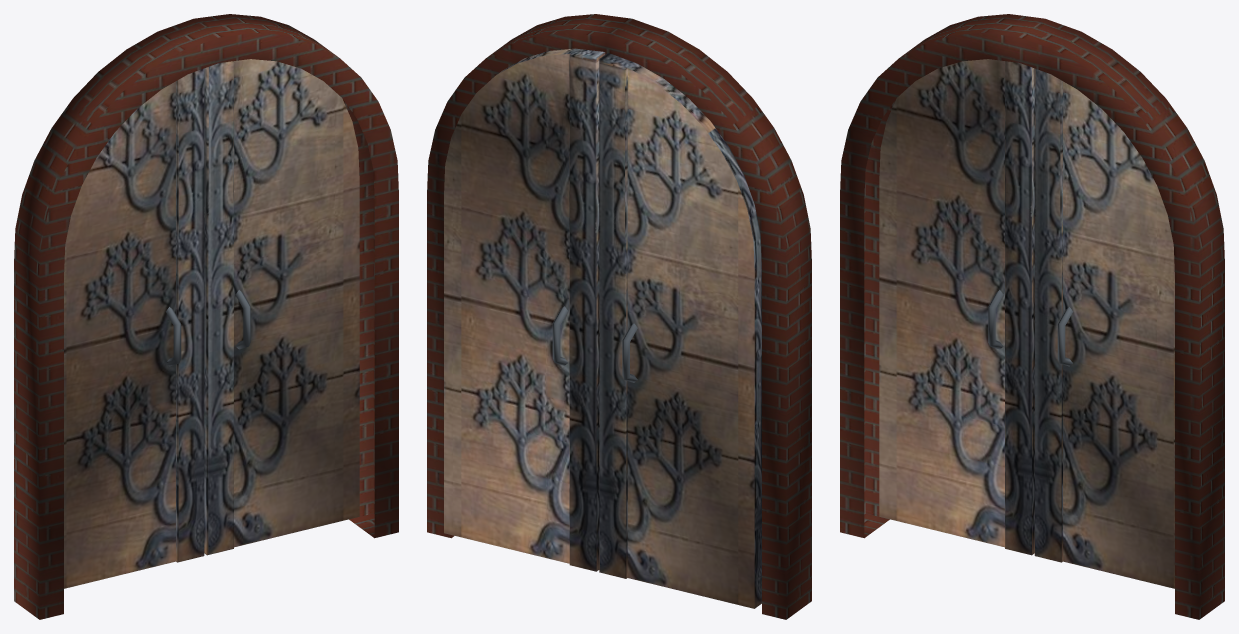
File: dungeon-door.obj
3 renders of one model, left to right at view 1: azimuth 30°, elevation 25°; view 2: azimuth 150°, elevation 25°; view 3: azimuth 330°, elevation 25°, orthographic.
Visible parts, largest first — view 1: l_1, r_1, br; view 2: r_1, l_1, br; view 3: r_1, l_1, br.
Part boxes in pixels (box(x1,y1,x2,y2)): l_1: box(204, 59, 359, 555); r_1: box(64, 68, 204, 588); br: box(14, 14, 398, 619); r_1: box(599, 53, 761, 608); l_1: box(444, 48, 605, 571); br: box(427, 14, 811, 619); r_1: box(879, 59, 1034, 555); l_1: box(1034, 68, 1174, 588); br: box(840, 14, 1224, 619).
Size of the model in its own units: 4.72 by 6.77 by 0.9748.
Materials: 3 (3 with a texture image).
